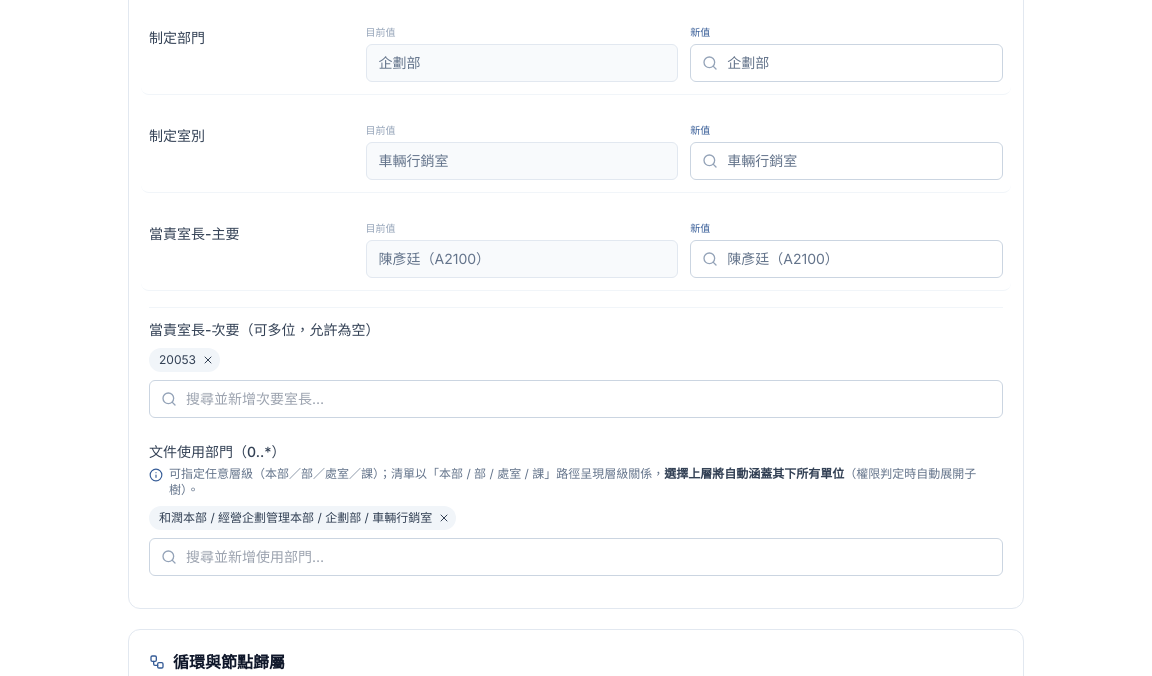
Scenario: DocumentEditPage — F011 編輯與版本對照（移植 prototype 15） › F014 次要室長／使用部門可編輯（prototype 15 secChips/useChips） › TS-D-002 移除既有次要室長 chip
(page scrolled)
Click the button named "移除 20053" at (208, 360), box [200,352,216,368]
(page scrolled)
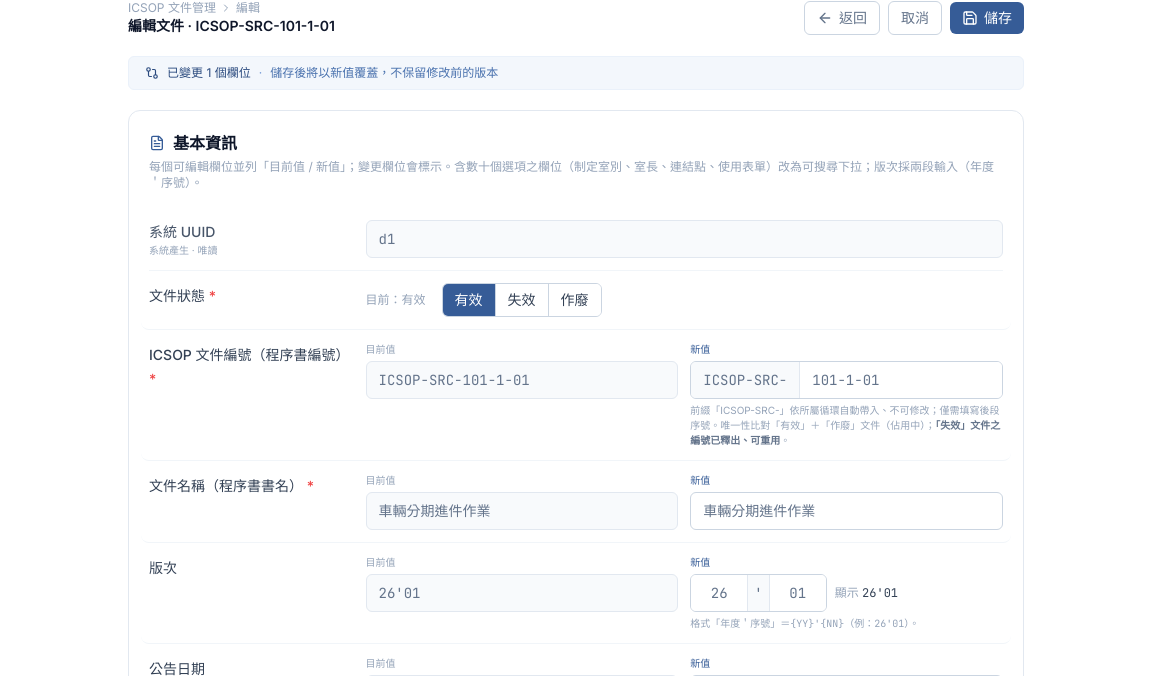
Result: the text "已變更 1 個欄位" is shown at [167,65,251,81]
